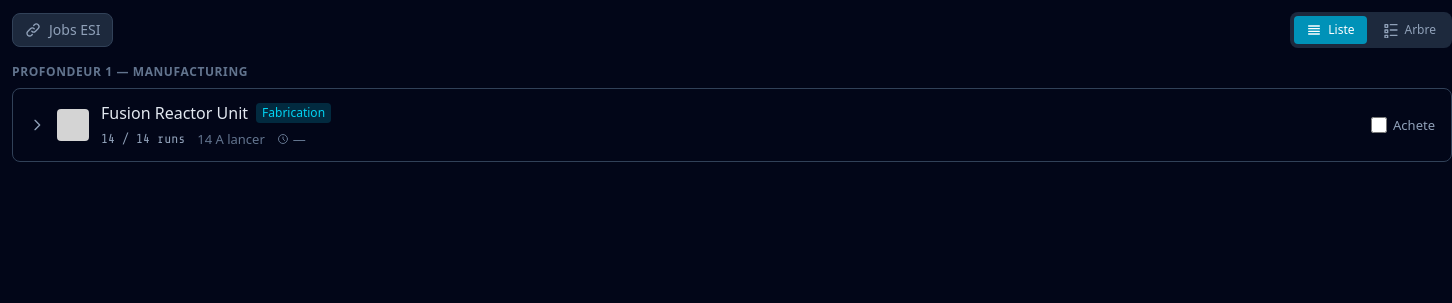
StepsTab fixed step runs › labels the fixed step and its release in french
Click the element with class "step-row". click: (732, 125)
box: [12,88,1451,162]
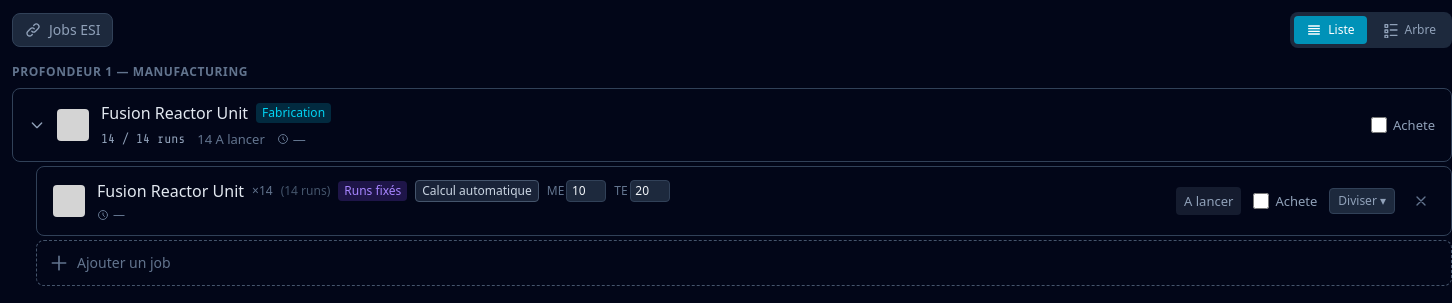
expect the text "Runs fixés" is shown: met, box [338,181,407,201]
expect the text with test id "fixed-step-runs" reads "Runs fixés": met, box [344,182,401,199]
expect the button with test id "release-step-runs" reads "Calcul automatique": met, box [415,180,539,202]
